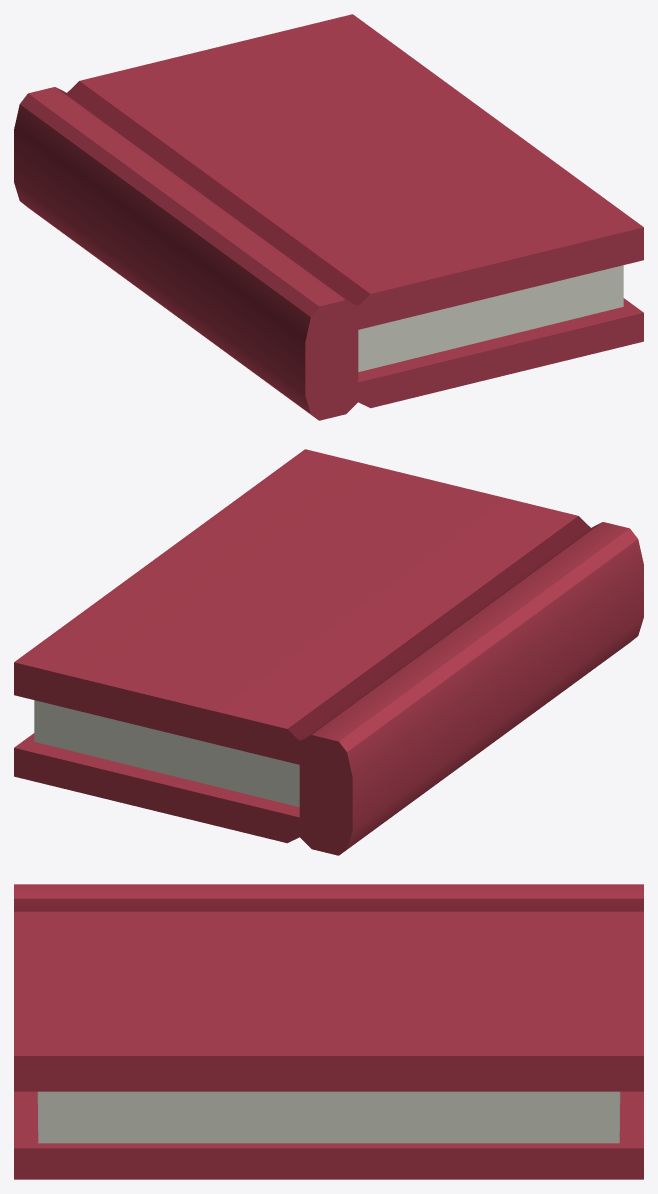
File: PROP_Book.fbx
The picture shows the model from 3 angles, top to bottom: view 1: azimuth 30°, elevation 25°; view 2: azimuth 150°, elevation 25°; view 3: azimuth 270°, elevation 25°; orthographic projection. The views are drawn at different scales.
Parts seen in each view (by area): view 1: GEO_Book; view 2: GEO_Book; view 3: GEO_Book.
Part boxes in pixels (left/top/right/bottom): GEO_Book: left=14, top=14, right=643, bottom=420; GEO_Book: left=14, top=449, right=643, bottom=855; GEO_Book: left=14, top=884, right=643, bottom=1179.
Bounding box in the file's own units: 18.24 × 5.88 × 27.15.
